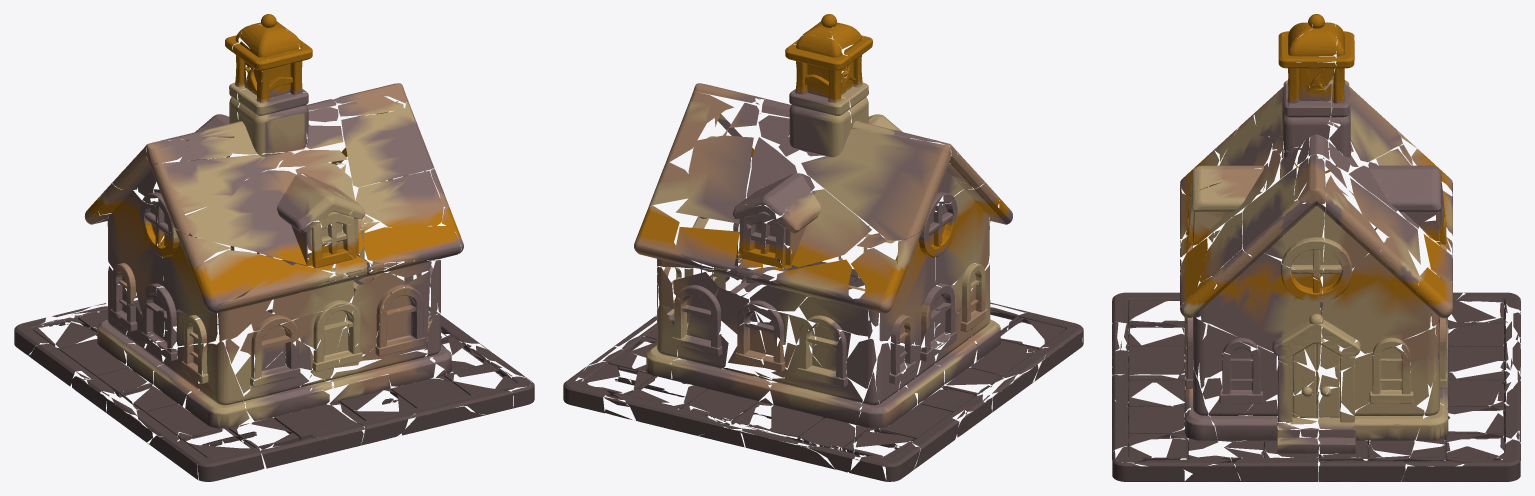
File: hero-school.glb
3 renders of one model, left to right at view 1: azimuth 30°, elevation 25°; view 2: azimuth 150°, elevation 25°; view 3: azimuth 270°, elevation 25°, orthographic. The views are drawn at different scales.
Parts seen in each view (by area): view 1: world; view 2: world; view 3: world.
Boxes of the visible parts, left/top/right/bottom form: world: left=14, top=14, right=534, bottom=481; world: left=563, top=14, right=1083, bottom=481; world: left=1112, top=14, right=1520, bottom=481.
Bounding box in the file's own units: 2.7 × 2.75 × 2.7.
